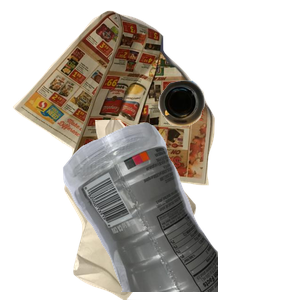glass: (156, 78, 300, 197)
paper: (10, 10, 217, 189)
plastic: (60, 120, 300, 300)
trash: (62, 120, 251, 300)
